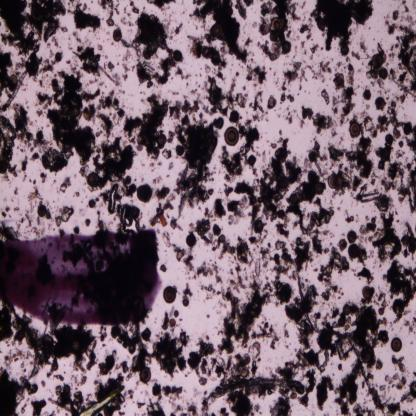Air bubble: (108, 186, 120, 214), (123, 218, 140, 234)
Background material: (43, 70, 94, 175), (13, 314, 98, 376), (177, 114, 223, 212), (318, 304, 390, 360), (218, 280, 270, 353), (260, 137, 297, 237), (191, 0, 250, 62), (0, 1, 44, 78), (312, 0, 374, 52), (134, 12, 175, 88), (124, 92, 169, 160), (288, 169, 334, 235), (287, 272, 321, 352), (94, 136, 136, 194), (220, 122, 260, 180), (110, 322, 154, 374), (0, 103, 29, 180), (202, 72, 246, 122), (72, 43, 122, 86), (384, 260, 416, 325), (316, 247, 350, 302), (270, 240, 298, 306), (212, 225, 256, 266), (152, 329, 188, 377), (0, 369, 37, 415), (372, 211, 402, 263), (335, 354, 360, 415), (188, 34, 228, 72), (46, 379, 90, 412), (388, 162, 416, 213), (30, 3, 69, 38), (276, 351, 330, 376), (345, 137, 374, 181), (188, 338, 214, 386), (400, 15, 416, 93), (300, 106, 337, 138), (333, 75, 356, 124), (235, 181, 263, 221), (357, 183, 394, 211), (361, 368, 384, 412), (251, 320, 280, 354), (70, 0, 99, 32), (301, 141, 328, 175), (96, 90, 125, 120), (91, 374, 125, 398), (260, 0, 301, 19), (212, 355, 249, 376), (291, 238, 313, 271), (5, 346, 35, 370), (226, 194, 248, 226), (386, 100, 403, 141), (250, 90, 271, 122), (226, 392, 255, 415), (400, 219, 416, 260), (299, 370, 317, 406), (28, 130, 50, 159), (196, 260, 221, 285), (317, 374, 333, 412), (18, 214, 45, 236), (151, 381, 184, 399), (338, 167, 362, 191), (245, 63, 268, 88), (284, 60, 307, 85), (363, 114, 388, 137), (358, 215, 381, 240), (0, 302, 15, 340), (374, 144, 394, 172), (193, 217, 213, 245), (378, 374, 408, 392), (228, 265, 248, 291), (307, 60, 333, 79), (34, 92, 54, 116), (268, 396, 292, 416), (170, 400, 199, 416), (54, 206, 76, 227), (256, 40, 278, 61), (104, 393, 125, 414), (204, 199, 226, 219), (0, 52, 12, 88), (313, 230, 331, 254), (400, 380, 416, 405), (96, 114, 113, 137), (99, 354, 118, 374), (182, 95, 203, 113), (179, 282, 194, 307), (234, 0, 256, 17), (404, 123, 416, 154), (121, 48, 132, 81), (383, 396, 401, 416), (147, 0, 177, 12), (99, 0, 120, 17), (376, 289, 389, 316), (27, 188, 45, 207), (183, 254, 197, 278), (391, 355, 407, 376), (170, 242, 186, 263), (168, 98, 183, 119), (144, 401, 166, 415), (18, 152, 29, 180), (329, 144, 346, 162), (357, 266, 374, 284), (380, 176, 400, 191), (248, 232, 268, 247), (137, 184, 153, 202), (353, 404, 376, 416), (30, 398, 47, 414), (384, 20, 399, 38), (40, 56, 55, 74), (358, 242, 369, 266), (366, 61, 378, 82), (201, 285, 217, 300), (346, 63, 356, 87), (302, 18, 312, 41), (401, 316, 416, 331), (87, 194, 102, 209), (154, 200, 173, 211), (282, 105, 295, 121), (162, 230, 172, 250), (262, 243, 270, 268), (154, 187, 172, 198), (59, 179, 73, 193), (170, 218, 184, 232), (271, 16, 283, 32), (253, 257, 262, 278), (200, 399, 212, 414), (161, 310, 170, 330), (222, 182, 234, 197), (100, 326, 110, 344), (279, 92, 295, 103), (175, 65, 186, 81), (344, 209, 354, 226), (188, 84, 201, 97), (320, 88, 329, 106), (174, 22, 184, 38), (151, 174, 164, 186), (396, 148, 407, 162), (162, 148, 175, 159), (129, 0, 139, 14), (150, 212, 160, 226), (390, 8, 400, 22), (77, 374, 88, 386), (362, 88, 372, 101), (399, 70, 408, 84), (407, 158, 416, 172), (243, 36, 254, 47), (250, 357, 257, 374), (394, 94, 407, 103), (38, 173, 47, 186), (122, 360, 129, 376), (375, 42, 386, 52), (309, 44, 319, 54), (350, 50, 360, 60), (338, 240, 347, 251), (1, 206, 10, 217), (389, 68, 396, 82), (402, 2, 410, 14), (400, 409, 416, 415), (376, 79, 384, 90), (360, 41, 367, 53), (376, 358, 383, 370), (127, 387, 134, 399), (253, 404, 261, 414), (337, 362, 345, 372), (14, 188, 21, 198), (84, 218, 92, 226), (159, 264, 167, 272), (13, 204, 20, 213), (137, 401, 146, 408), (398, 140, 404, 148)
Cellulose filter fibre: (208, 376, 304, 400), (4, 70, 29, 111)
Cotton: (224, 126, 239, 146)
Diatom: (360, 347, 375, 364), (163, 286, 176, 304), (87, 172, 100, 188), (139, 366, 151, 383), (210, 24, 224, 38), (390, 337, 403, 352), (349, 122, 361, 138), (327, 173, 339, 189), (348, 243, 358, 260), (270, 40, 282, 54), (373, 53, 384, 68), (186, 232, 196, 247), (362, 285, 372, 300), (158, 131, 168, 145), (375, 96, 385, 110), (9, 73, 19, 85), (347, 230, 357, 242), (254, 219, 263, 232), (72, 341, 82, 352), (37, 206, 47, 217), (402, 124, 412, 135), (378, 68, 388, 79), (239, 366, 249, 377), (113, 30, 123, 41), (173, 50, 182, 62), (315, 183, 324, 194), (260, 23, 269, 34), (72, 106, 81, 116), (342, 305, 351, 315), (340, 46, 349, 56), (282, 41, 290, 52), (106, 18, 115, 27), (54, 52, 62, 62), (268, 98, 276, 108), (385, 134, 393, 144), (252, 342, 260, 351), (169, 318, 176, 327), (187, 178, 193, 188)
Fragment: (158, 213, 168, 228)
Pen: (0, 226, 159, 326)
